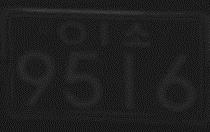0: (58, 19, 89, 46)
1: (109, 51, 146, 109), (91, 20, 115, 48)
5: (61, 52, 104, 109)
6: (156, 51, 198, 113)
9: (15, 49, 54, 106)
소: (123, 22, 151, 49)
